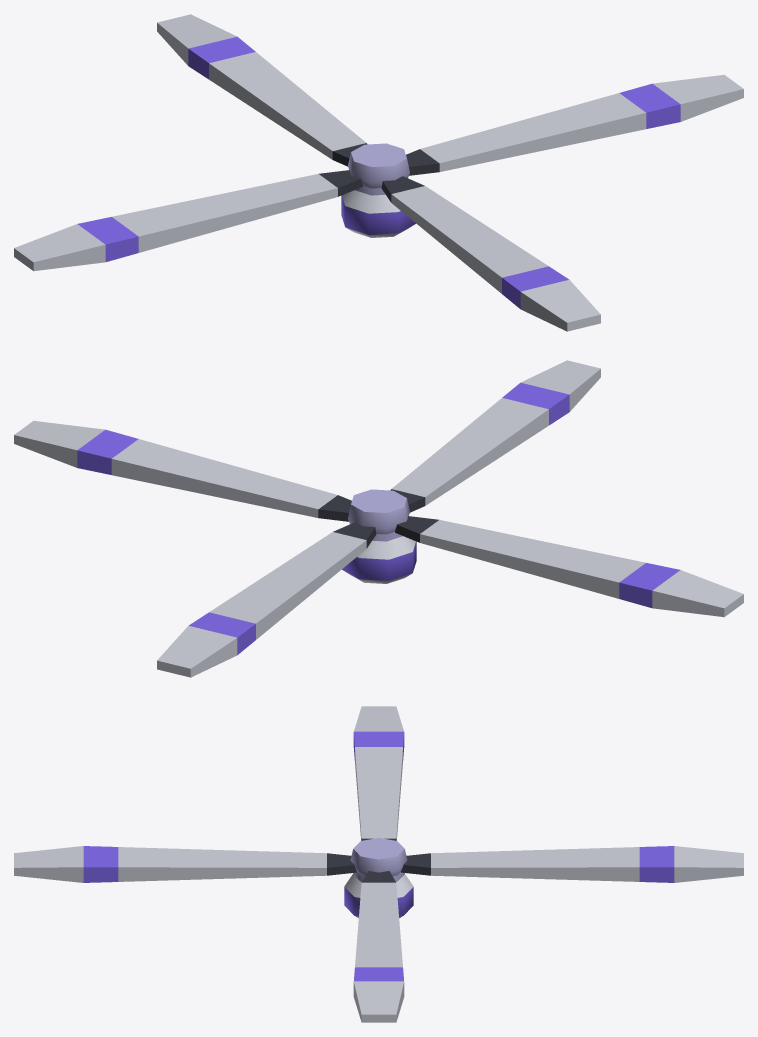
Rendered from helicopter_blades.glb.
3 renders of one model, top to bottom at view 1: azimuth 30°, elevation 25°; view 2: azimuth 150°, elevation 25°; view 3: azimuth 270°, elevation 25°, orthographic. The views are drawn at different scales.
Parts seen in each view (by area): view 1: mergedBlocks(Clone); view 2: mergedBlocks(Clone); view 3: mergedBlocks(Clone).
Part boxes in pixels (x1,y1,x2,y2): mergedBlocks(Clone): (14,14,743,331); mergedBlocks(Clone): (14,360,743,677); mergedBlocks(Clone): (14,706,743,1022).
Size of the model in its own units: 6.3 by 0.6 by 6.3.
